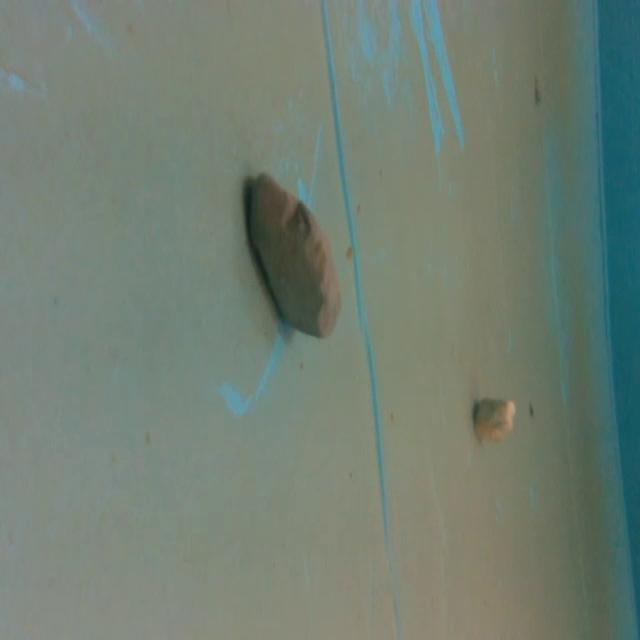rock: (230, 168, 353, 347)
